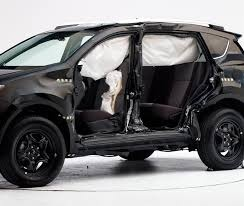Smashed: (10, 68, 215, 142)
